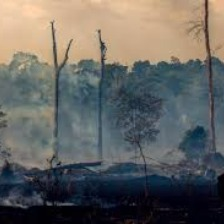incendio: (1, 92, 218, 180)
